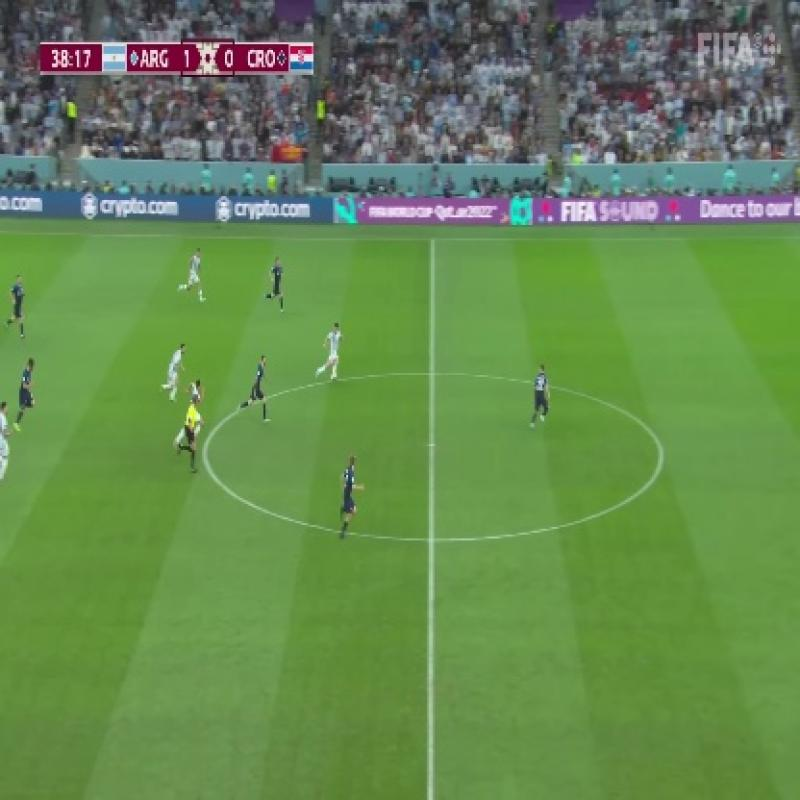13: (423, 227, 442, 252)
14: (417, 354, 446, 390)
15: (416, 519, 444, 558)
c: (189, 428, 220, 472), (648, 438, 683, 472)
